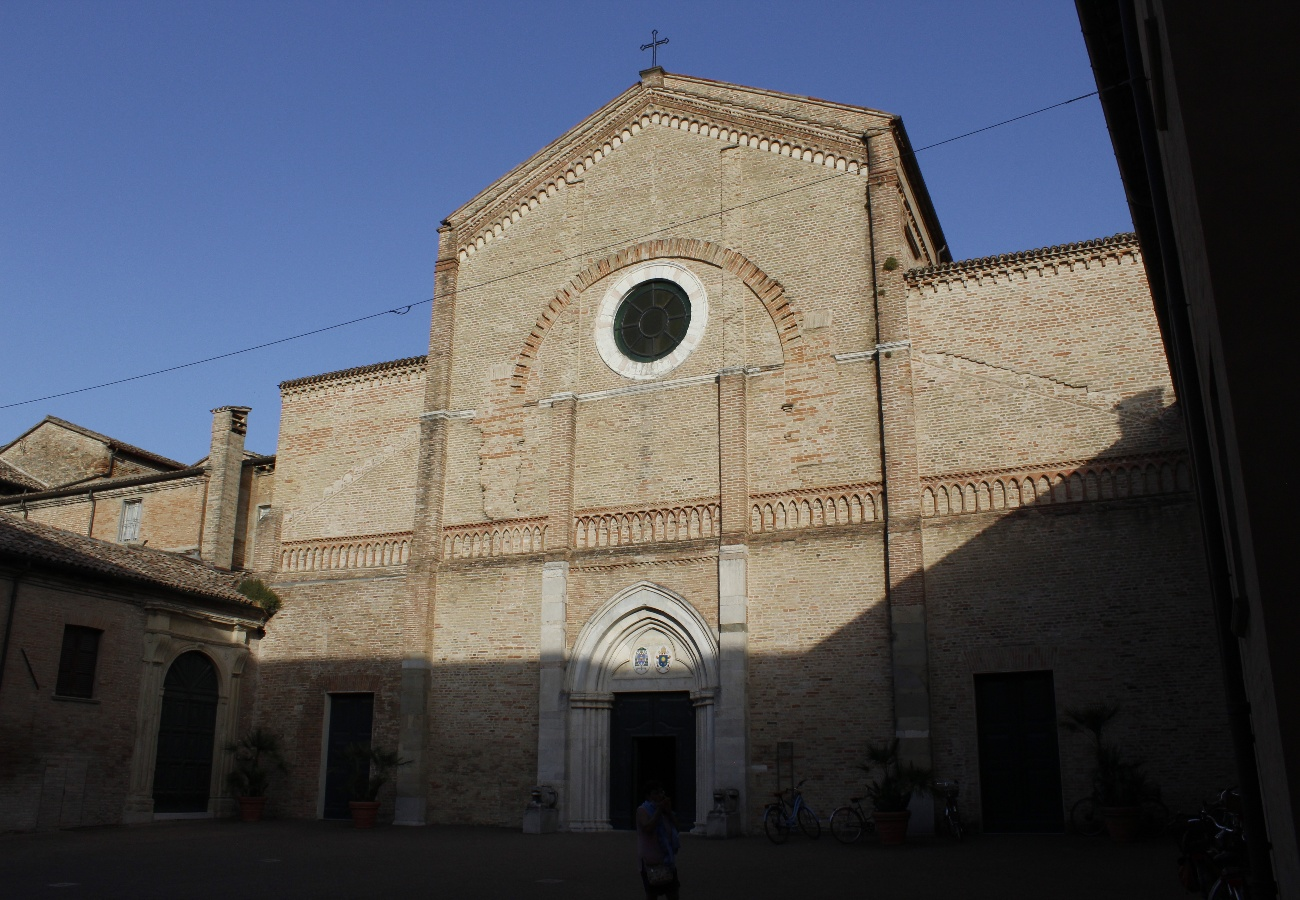Cattedrale Santa Maria Assunta: (263, 72, 1187, 854)
